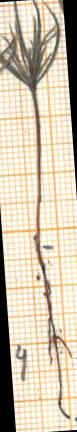flower: (0, 0, 69, 99)
root: (30, 246, 77, 422)
stem: (22, 97, 51, 247)
